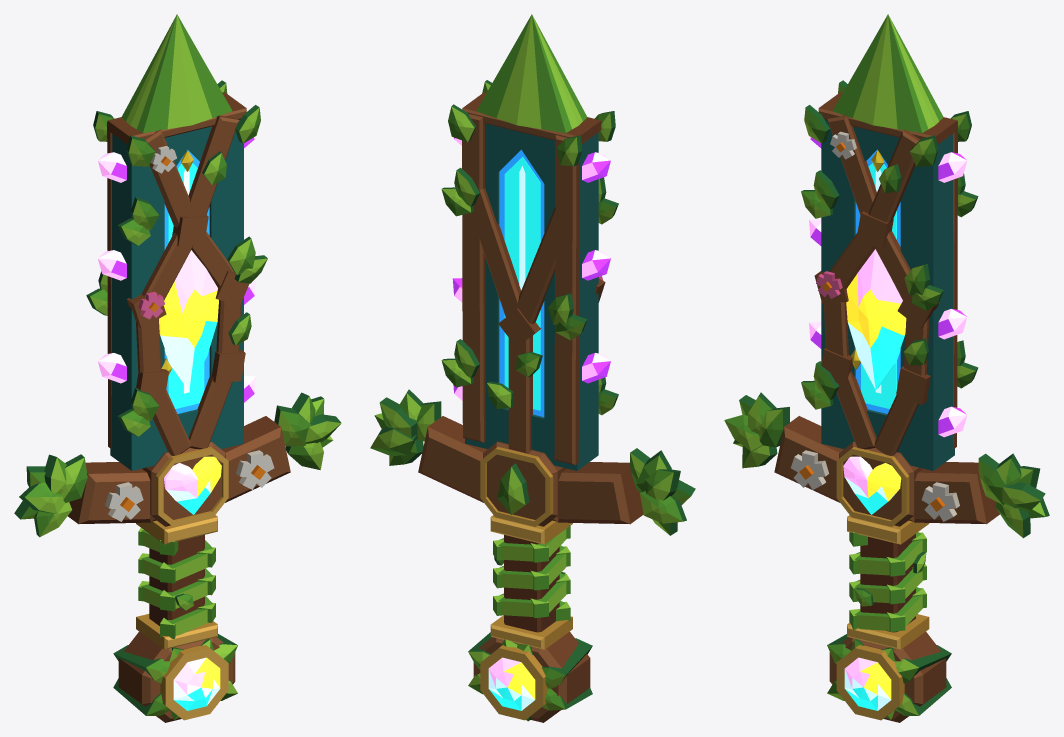
File: gladeheart_blade.glb
3 renders of one model, left to right at view 1: azimuth 30°, elevation 25°; view 2: azimuth 150°, elevation 25°; view 3: azimuth 330°, elevation 25°, orthographic.
Parts seen in each view (by area): view 1: blade_core, blade_branches_front, tip, guard_bar, blade_crystal, grip_vine, guard_leaves_l, guard_leaves_r, blade_leaves_l, pommel, blade_channel_front, pommel_leaves (+16 smaller); view 2: blade_branches_back, blade_core, guard_bar, tip, blade_channel_back, grip_vine, guard_leaves_l, guard_leaves_r, guard_boss, pommel, blade_leaves_r, blade_leaves_l (+12 smaller); view 3: blade_core, blade_branches_front, tip, guard_bar, blade_crystal, grip_vine, guard_leaves_r, guard_leaves_l, pommel, blade_leaves_l, blade_leaves_r, pommel_leaves (+18 smaller).
Part boxes in pixels (x1=…): blade_core: x1=110, y1=119, x2=243, y2=470; blade_branches_front: x1=126, y1=115, x2=249, y2=455; tip: x1=121, y1=14, x2=232, y2=132; guard_bar: x1=68, y1=416, x2=290, y2=524; blade_crystal: x1=159, y1=250, x2=218, y2=389; grip_vine: x1=138, y1=528, x2=215, y2=638; guard_leaves_l: x1=14, y1=454, x2=87, y2=537; guard_leaves_r: x1=274, y1=392, x2=341, y2=469; blade_leaves_l: x1=86, y1=197, x2=159, y2=436; pommel: x1=118, y1=631, x2=235, y2=722; blade_channel_front: x1=164, y1=149, x2=209, y2=413; pommel_leaves: x1=113, y1=634, x2=237, y2=719; blade_branches_back: x1=462, y1=113, x2=579, y2=465; blade_core: x1=465, y1=123, x2=598, y2=470; guard_bar: x1=418, y1=416, x2=643, y2=524; tip: x1=476, y1=14, x2=587, y2=132; blade_channel_back: x1=499, y1=149, x2=544, y2=416; grip_vine: x1=493, y1=524, x2=570, y2=621; guard_leaves_l: x1=630, y1=448, x2=695, y2=535; guard_leaves_r: x1=370, y1=389, x2=441, y2=465; guard_boss: x1=483, y1=441, x2=566, y2=526; pommel: x1=473, y1=631, x2=590, y2=722; blade_leaves_r: x1=441, y1=167, x2=479, y2=387; blade_leaves_l: x1=548, y1=177, x2=618, y2=415; blade_core: x1=821, y1=119, x2=954, y2=470; blade_branches_front: x1=814, y1=115, x2=939, y2=455; tip: x1=832, y1=14, x2=943, y2=132; guard_bar: x1=774, y1=416, x2=999, y2=524; blade_crystal: x1=846, y1=249, x2=906, y2=389; grip_vine: x1=849, y1=532, x2=926, y2=631; guard_leaves_r: x1=978, y1=453, x2=1049, y2=538; guard_leaves_l: x1=724, y1=392, x2=789, y2=468; pommel: x1=829, y1=631, x2=946, y2=722; blade_leaves_l: x1=801, y1=170, x2=839, y2=409; blade_leaves_r: x1=904, y1=173, x2=978, y2=388; pommel_leaves: x1=827, y1=634, x2=951, y2=719.
Bounding box in the file's own units: 0.6797 × 1.42 × 0.18.
